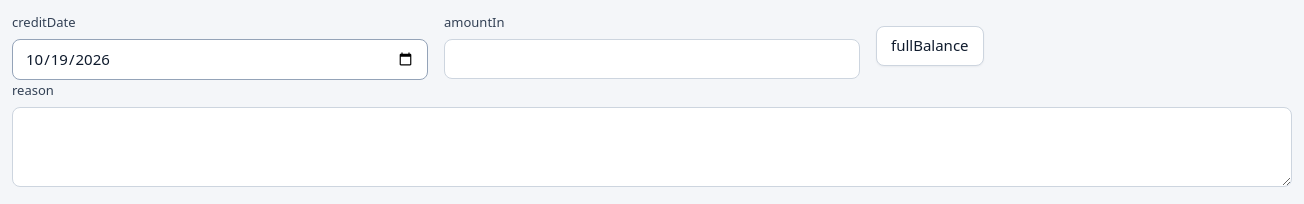
Test case: credit note (functional review C8) › leaves the amount empty until "full balance" is pressed
The image size is (1304, 204).
expect the field named "amount" is empty: met, box [444,39,860,79]
What coordinates should you click on to do the following:
click the button "fullBalance"
I would click on:
 (930, 46)
Its box is [876,26,984,66].
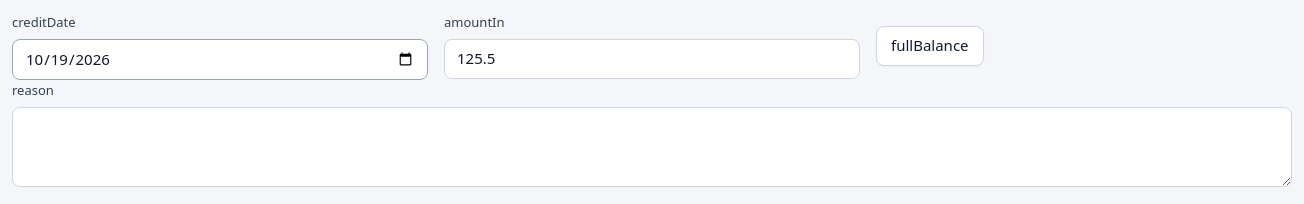
expect the field named "amount" holds "125.5": met, box [444,39,860,79]
